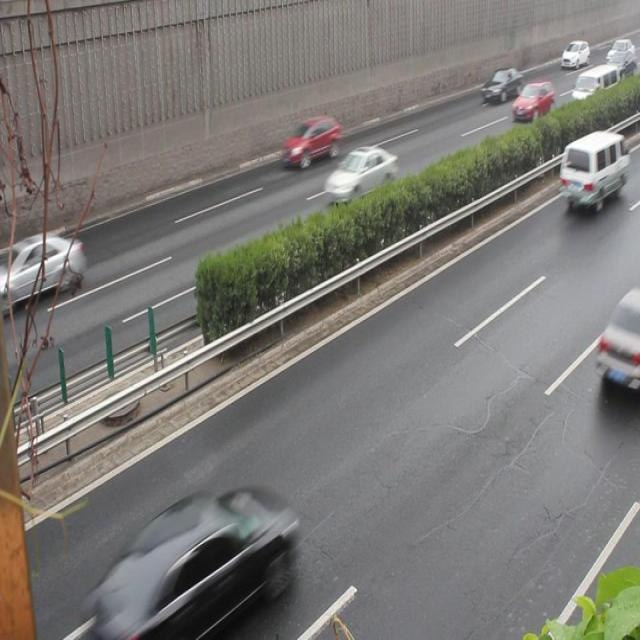car: (108, 489, 293, 631), (1, 231, 82, 306), (324, 145, 397, 206), (281, 117, 339, 169), (510, 81, 552, 122), (479, 65, 522, 103)
truck: (559, 131, 626, 212)
